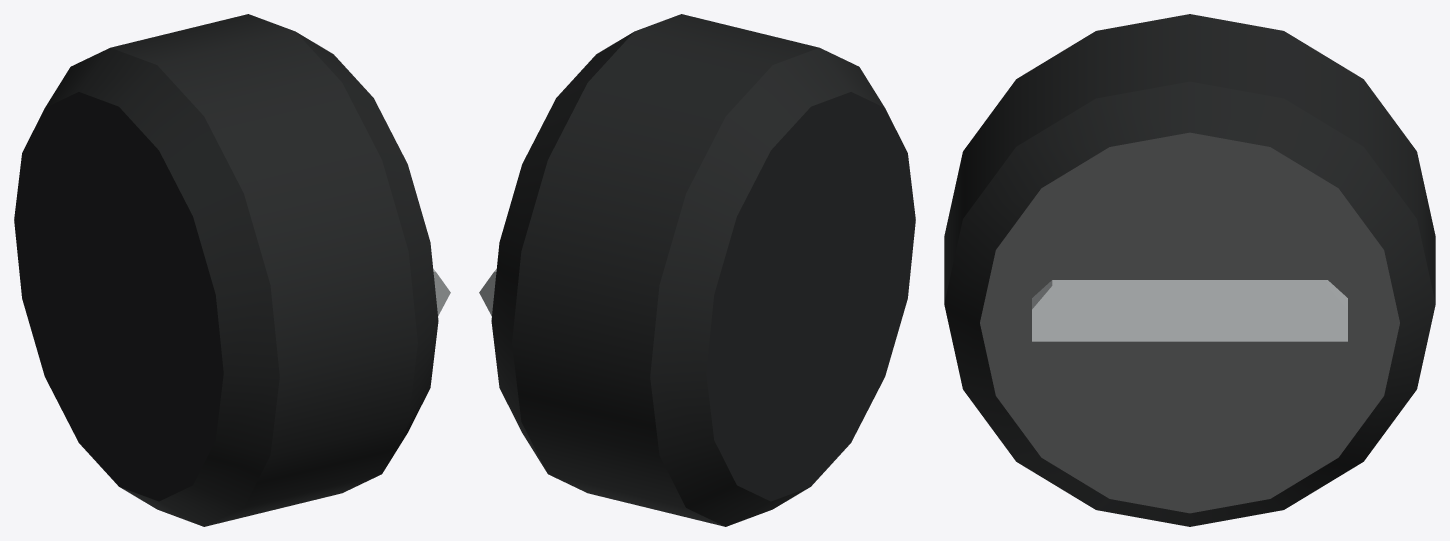
File: Cargo_Drone_002_Wheel_003.fbx
3 views of the same model, side by side, from view 1: azimuth 30°, elevation 25°; view 2: azimuth 150°, elevation 25°; view 3: azimuth 270°, elevation 25° (orthographic).
Parts seen in each view (by area): view 1: Cargo_Drone_002_Wheel_003; view 2: Cargo_Drone_002_Wheel_003; view 3: Cargo_Drone_002_Wheel_003.
Boxes of the visible parts, x1,y1,x2,y2 form: Cargo_Drone_002_Wheel_003: (14, 14, 450, 526); Cargo_Drone_002_Wheel_003: (479, 14, 915, 526); Cargo_Drone_002_Wheel_003: (944, 14, 1435, 526).
Size of the model in its own units: 12.38 by 20.77 by 20.77.
